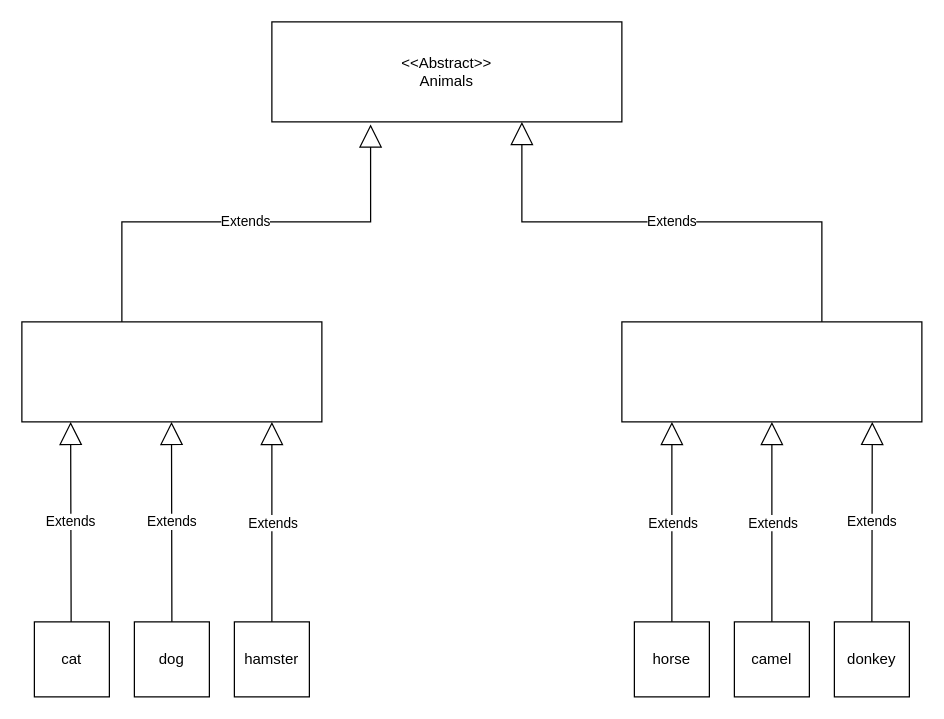
This 944x719 diagram has some shape labels left out. The shapes that lost their labels are listed below. From the top down, each one's box as (x1, y1, x2, y2) in pixels, then its label:
(21, 321, 322, 422): <<Abstract>> Pets
(621, 321, 922, 422): <<Abstract>> Pack animals
